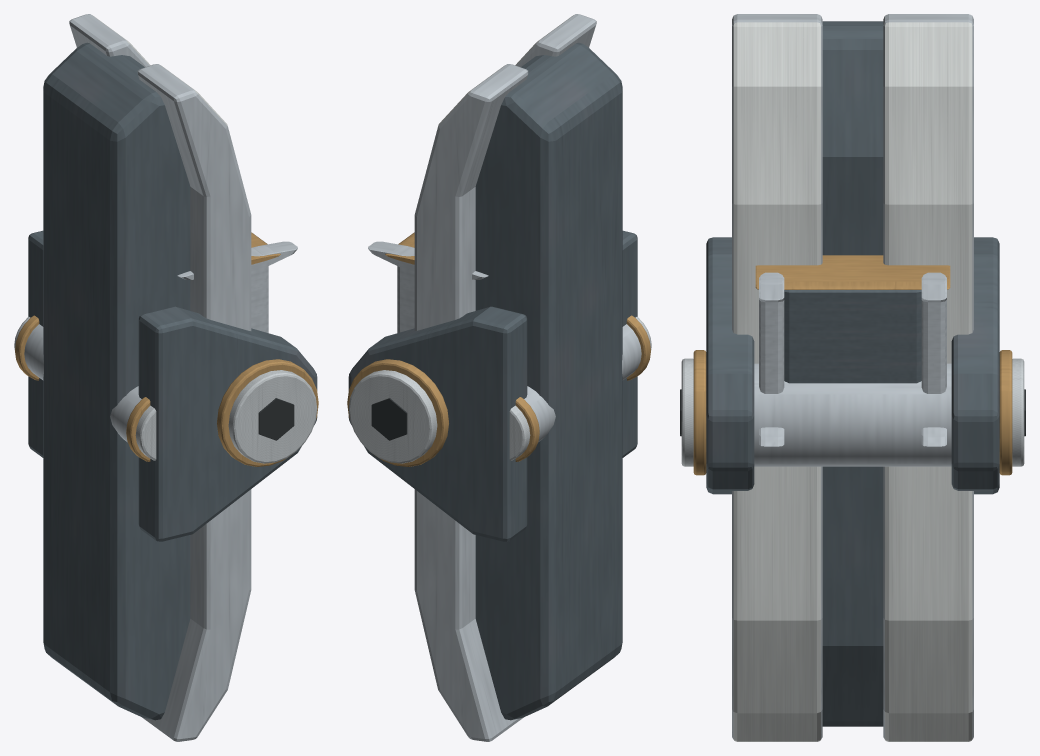
File: caliper.glb
3 renders of one model, left to right at view 1: azimuth 30°, elevation 25°; view 2: azimuth 150°, elevation 25°; view 3: azimuth 270°, elevation 25°, orthographic. The views are drawn at different scales.
Parts seen in each view (by area): view 1: CaliperShoe, CaliperPivot, CaliperLink; view 2: CaliperShoe, CaliperPivot, CaliperLink; view 3: CaliperShoe, CaliperPivot, CaliperLink.
Part boxes in pixels (box(x1,y1,x2,y2)): CaliperShoe: box(14, 14, 251, 741); CaliperPivot: box(28, 230, 318, 541); CaliperLink: box(177, 232, 297, 332); CaliperShoe: box(414, 14, 651, 741); CaliperPivot: box(347, 230, 637, 541); CaliperLink: box(368, 232, 488, 332); CaliperShoe: box(732, 14, 973, 741); CaliperPivot: box(680, 237, 1025, 494); CaliperLink: box(755, 255, 950, 446).
Bounding box in the file's own units: 1.52 × 4.99 × 2.17.
6 materials, 5 textured.
